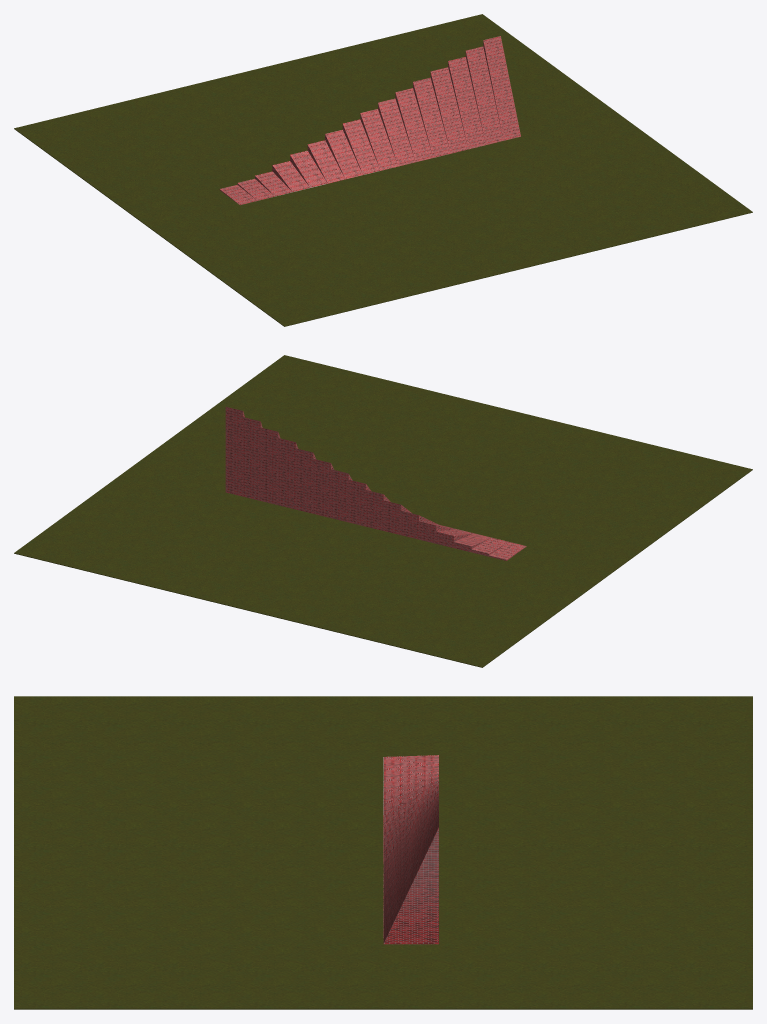
3 renders of one model, top to bottom at view 1: azimuth 30°, elevation 25°; view 2: azimuth 150°, elevation 25°; view 3: azimuth 270°, elevation 25°, orthographic. The views are drawn at different scales.
Parts seen in each view (by area): view 1: Cube, Cube.016, Cube.015, Cube.014, Cube.013, Cube.012, Cube.011, Cube.008, Cube.007, Cube.006, Cube.001, Cube.002 (+2 smaller); view 2: Cube, Cube.016, Cube.015, Cube.014, Cube.013, Cube.012, Cube.011, Cube.008, Cube.007, Cube.006, Cube.001, Cube.002; view 3: Cube, Cube.016, Cube.010, Cube.009.
Part boxes in pixels (box(x1,y1,x2,y2)): Cube: box(14, 14, 752, 326); Cube.016: box(483, 36, 520, 140); Cube.015: box(465, 46, 503, 144); Cube.014: box(448, 57, 485, 149); Cube.013: box(430, 67, 468, 153); Cube.012: box(413, 77, 450, 157); Cube.011: box(395, 88, 432, 161); Cube.008: box(378, 98, 415, 166); Cube.007: box(360, 109, 397, 170); Cube.006: box(342, 119, 380, 174); Cube.001: box(325, 130, 362, 179); Cube.002: box(307, 140, 345, 183); Cube: box(14, 355, 752, 667); Cube.016: box(225, 407, 244, 496); Cube.015: box(243, 417, 262, 500); Cube.014: box(260, 427, 280, 504); Cube.013: box(278, 438, 298, 509); Cube.012: box(296, 448, 315, 513); Cube.011: box(313, 459, 334, 517); Cube.008: box(331, 469, 352, 522); Cube.007: box(348, 479, 370, 526); Cube.006: box(366, 490, 390, 530); Cube.001: box(383, 500, 412, 534); Cube.002: box(401, 511, 438, 539); Cube: box(14, 696, 752, 1009); Cube.016: box(383, 816, 438, 944); Cube.010: box(383, 755, 438, 768); Cube.009: box(383, 764, 438, 780).
Size of the model in its own units: 80 by 14.1 by 80.
Materials: 2 (2 with a texture image).
